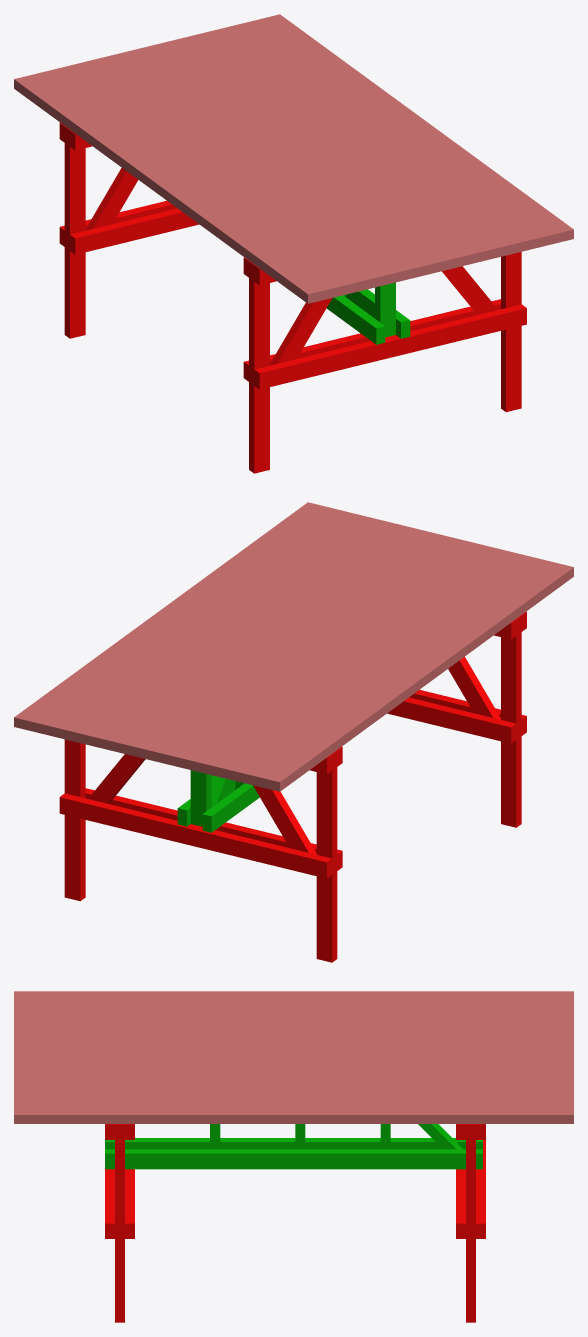
Rendered from result.glb.
3 renders of one model, top to bottom at view 1: azimuth 30°, elevation 25°; view 2: azimuth 150°, elevation 25°; view 3: azimuth 270°, elevation 25°, orthographic. The views are drawn at different scales.
Visible parts, largest first — view 1: fd425012-2ce1-4968-b506-bcdd0611af63__Box, 8cb81093-c0d3-40b2-a968-ba372a3d8558__sideH, cfe5d196-1975-47a9-b309-16369f23e9cd__undefined, d41d0455-e053-41eb-945e-7be4def17674__undefined, 1aaec928-3cda-4789-af84-b2093a42d16d__undefined, 8df352c1-4416-4658-8197-ccce1d153fda__undefined, 2e71781b-050a-4e3d-84e9-aa575e24bd91__undefined, c0fa588b-aaf2-4120-98fc-f2bf843e9877__undefined, 20b8de71-2e77-4a01-875f-05254209f037__undefined, a8fd057f-07eb-4e9d-ad02-68e3dcb05ece__undefined, df887327-09e4-442f-af29-900ddbabaad7__undefined, ccb6352d-c3dd-4386-b391-65bcb455cc5c__undefined (+18 smaller); view 2: fd425012-2ce1-4968-b506-bcdd0611af63__Box, 0266a861-7a19-4d59-af47-67511b5792a0__undefined, cfe5d196-1975-47a9-b309-16369f23e9cd__undefined, d41d0455-e053-41eb-945e-7be4def17674__undefined, 1aaec928-3cda-4789-af84-b2093a42d16d__undefined, 2e71781b-050a-4e3d-84e9-aa575e24bd91__undefined, c0fa588b-aaf2-4120-98fc-f2bf843e9877__undefined, 8df352c1-4416-4658-8197-ccce1d153fda__undefined, df887327-09e4-442f-af29-900ddbabaad7__undefined, 20b8de71-2e77-4a01-875f-05254209f037__undefined, 5890aee1-c896-4747-ab27-6f4e6ae6722d__undefined, 7efc384a-44f9-474c-bd0c-a9b872a246d1__undefined (+17 smaller); view 3: d75b2e6b-0eef-478d-a2aa-6a49a23c5a6d__undefined, 0204a895-64e4-4c71-bfe7-c9f9596205c5__strutH, fd425012-2ce1-4968-b506-bcdd0611af63__Box, c0fa588b-aaf2-4120-98fc-f2bf843e9877__undefined, df887327-09e4-442f-af29-900ddbabaad7__undefined, 1ec686f7-59a1-411b-b843-af428170fdd0__undefined, d41d0455-e053-41eb-945e-7be4def17674__undefined, 20b8de71-2e77-4a01-875f-05254209f037__undefined, 8df352c1-4416-4658-8197-ccce1d153fda__undefined, 7efc384a-44f9-474c-bd0c-a9b872a246d1__undefined, 1aaec928-3cda-4789-af84-b2093a42d16d__undefined, ccb6352d-c3dd-4386-b391-65bcb455cc5c__undefined (+14 smaller).
Part boxes in pixels (x1,y1,x2,y2): fd425012-2ce1-4968-b506-bcdd0611af63__Box: [14, 75, 323, 303]; 8cb81093-c0d3-40b2-a968-ba372a3d8558__sideH: [254, 304, 526, 389]; cfe5d196-1975-47a9-b309-16369f23e9cd__undefined: [249, 18, 558, 246]; d41d0455-e053-41eb-945e-7be4def17674__undefined: [77, 60, 386, 288]; 1aaec928-3cda-4789-af84-b2093a42d16d__undefined: [155, 41, 464, 269]; 8df352c1-4416-4658-8197-ccce1d153fda__undefined: [124, 48, 433, 276]; 2e71781b-050a-4e3d-84e9-aa575e24bd91__undefined: [202, 29, 511, 257]; c0fa588b-aaf2-4120-98fc-f2bf843e9877__undefined: [30, 71, 339, 299]; 20b8de71-2e77-4a01-875f-05254209f037__undefined: [92, 56, 401, 284]; a8fd057f-07eb-4e9d-ad02-68e3dcb05ece__undefined: [108, 52, 417, 280]; df887327-09e4-442f-af29-900ddbabaad7__undefined: [45, 68, 354, 295]; ccb6352d-c3dd-4386-b391-65bcb455cc5c__undefined: [171, 37, 479, 265]; fd425012-2ce1-4968-b506-bcdd0611af63__Box: [264, 563, 573, 791]; 0266a861-7a19-4d59-af47-67511b5792a0__undefined: [59, 793, 332, 878]; cfe5d196-1975-47a9-b309-16369f23e9cd__undefined: [29, 506, 338, 734]; d41d0455-e053-41eb-945e-7be4def17674__undefined: [201, 548, 510, 776]; 1aaec928-3cda-4789-af84-b2093a42d16d__undefined: [123, 529, 432, 757]; 2e71781b-050a-4e3d-84e9-aa575e24bd91__undefined: [76, 517, 385, 745]; c0fa588b-aaf2-4120-98fc-f2bf843e9877__undefined: [248, 559, 557, 787]; 8df352c1-4416-4658-8197-ccce1d153fda__undefined: [154, 536, 463, 764]; df887327-09e4-442f-af29-900ddbabaad7__undefined: [233, 555, 542, 783]; 20b8de71-2e77-4a01-875f-05254209f037__undefined: [186, 544, 495, 772]; 5890aee1-c896-4747-ab27-6f4e6ae6722d__undefined: [61, 513, 370, 741]; 7efc384a-44f9-474c-bd0c-a9b872a246d1__undefined: [139, 533, 448, 761]; d75b2e6b-0eef-478d-a2aa-6a49a23c5a6d__undefined: [14, 1107, 573, 1123]; 0204a895-64e4-4c71-bfe7-c9f9596205c5__strutH: [105, 1149, 482, 1169]; fd425012-2ce1-4968-b506-bcdd0611af63__Box: [14, 991, 573, 998]; c0fa588b-aaf2-4120-98fc-f2bf843e9877__undefined: [14, 998, 573, 1005]; df887327-09e4-442f-af29-900ddbabaad7__undefined: [14, 1005, 573, 1012]; 1ec686f7-59a1-411b-b843-af428170fdd0__undefined: [14, 1013, 573, 1020]; d41d0455-e053-41eb-945e-7be4def17674__undefined: [14, 1020, 573, 1027]; 20b8de71-2e77-4a01-875f-05254209f037__undefined: [14, 1027, 573, 1034]; 8df352c1-4416-4658-8197-ccce1d153fda__undefined: [14, 1042, 573, 1049]; 7efc384a-44f9-474c-bd0c-a9b872a246d1__undefined: [14, 1049, 573, 1056]; 1aaec928-3cda-4789-af84-b2093a42d16d__undefined: [14, 1056, 573, 1063]; ccb6352d-c3dd-4386-b391-65bcb455cc5c__undefined: [14, 1064, 573, 1071].
Bounding box in the file's own units: 940 × 732 × 1790.
